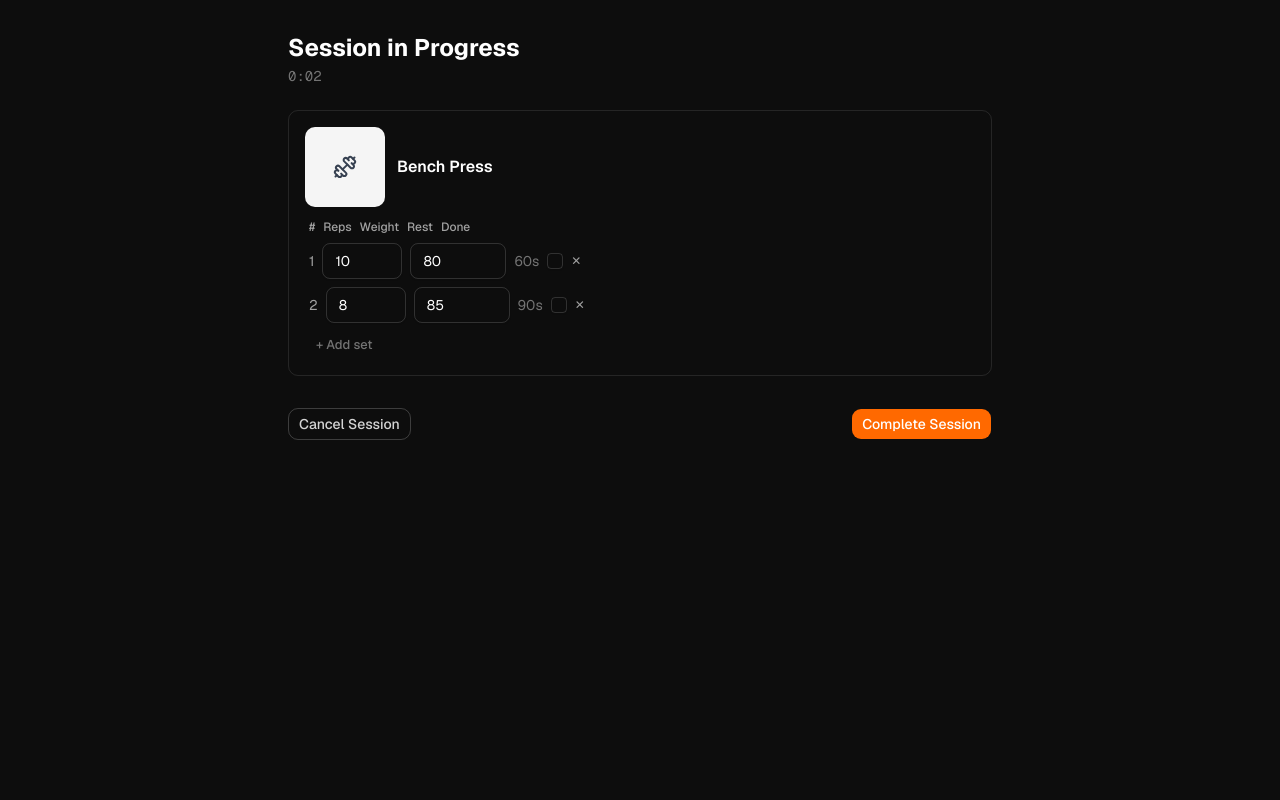
Scenario: WorkoutInProgressView — removing sets › confirming remove reduces set count by one
The image size is (1280, 800).
Expected: the number of number fields is 4, [322,243,402,279]; [410,243,506,279]; [326,287,406,323]; [414,287,510,323]
Click the button "✕" in the row of "60" at (576, 261), box [571,253,581,269]
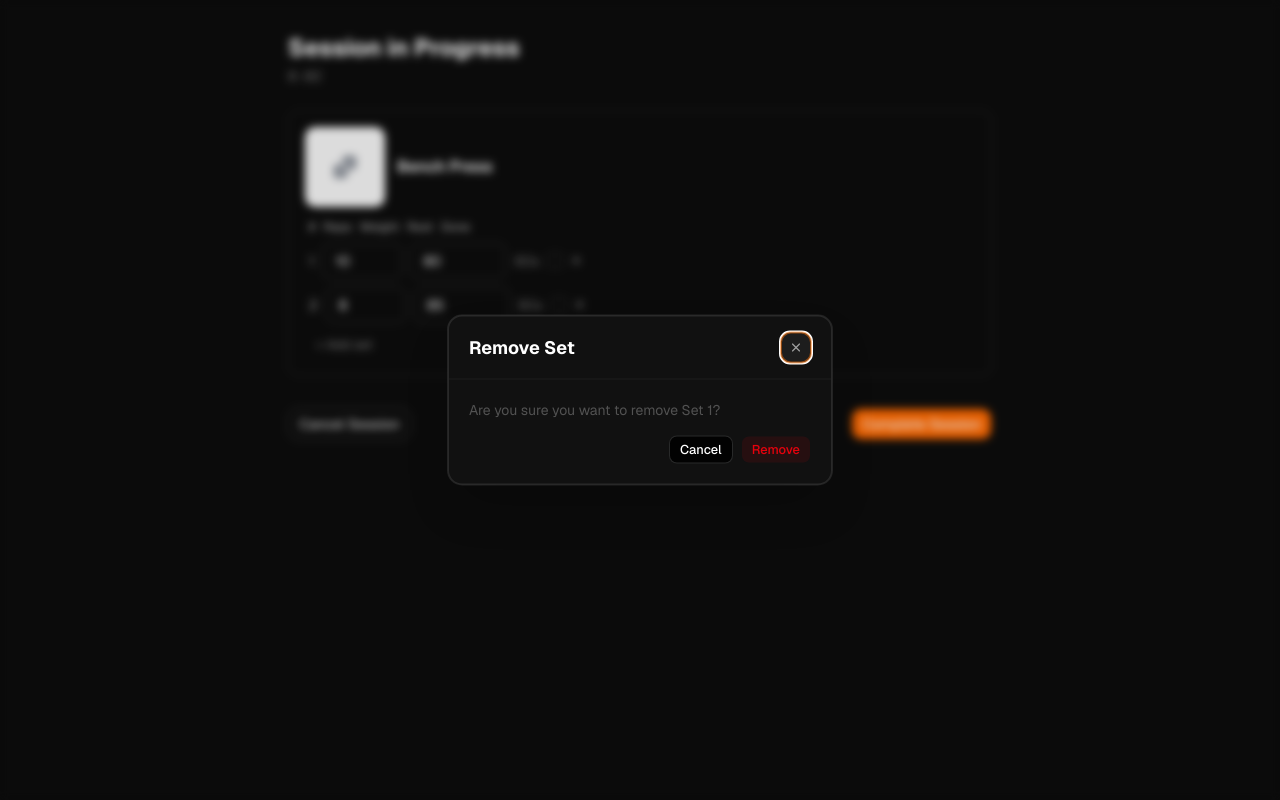
Click the button "Remove" at (776, 450), box [741,436,811,464]
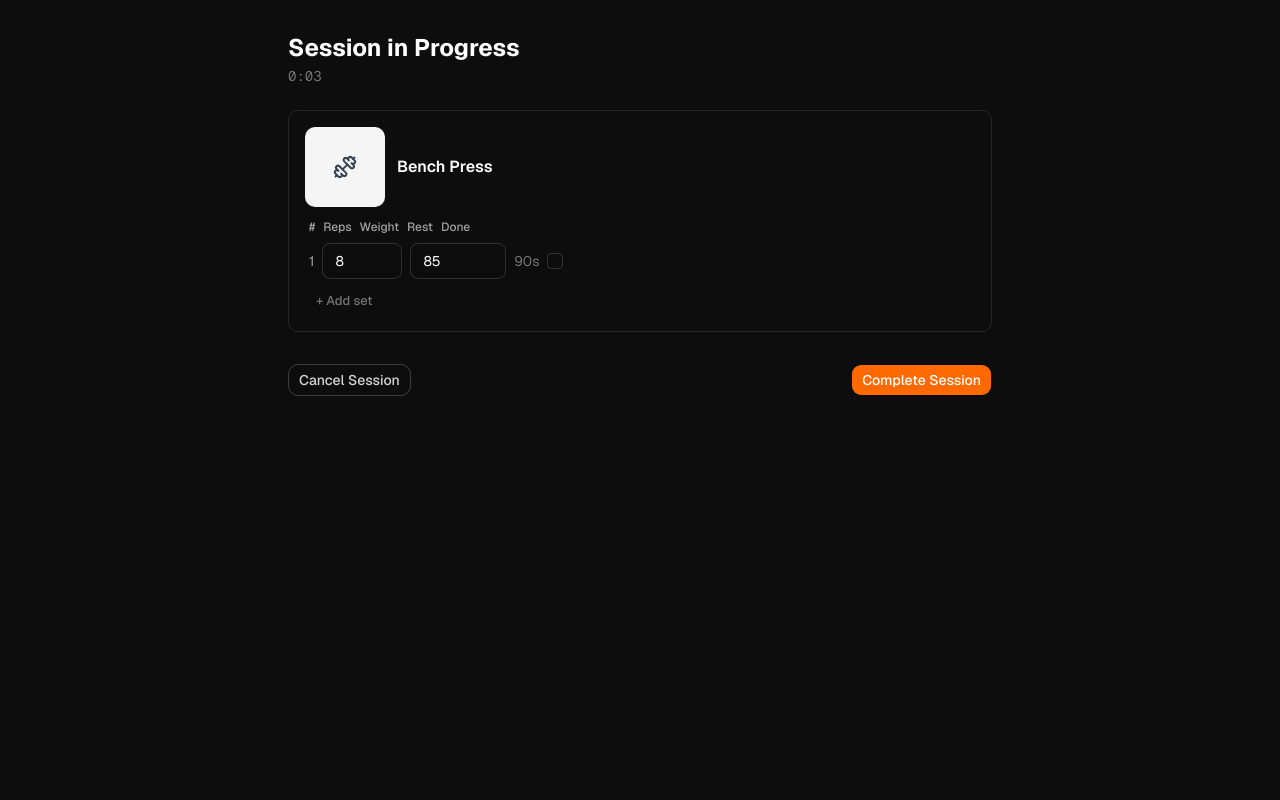
Expected: the number of number fields is 2, [322,243,402,279]; [410,243,506,279]
